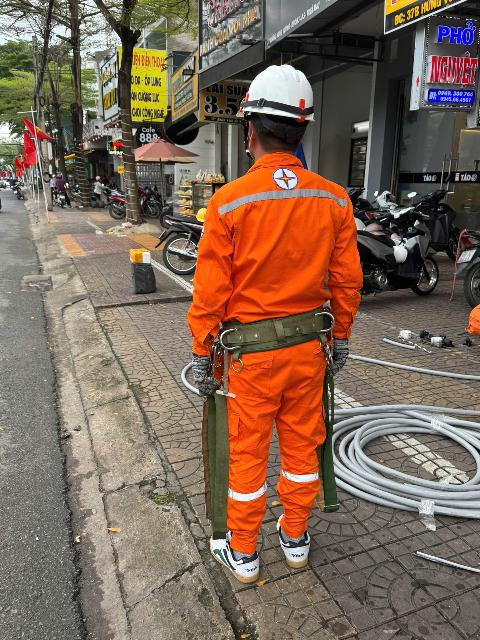gloves: (318, 321, 352, 384), (176, 350, 208, 393)
harness: (186, 291, 342, 362)
helmet: (229, 56, 318, 131)
shoes: (192, 527, 269, 589), (261, 506, 314, 572)
